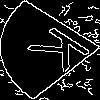K: (25, 24, 100, 81)
